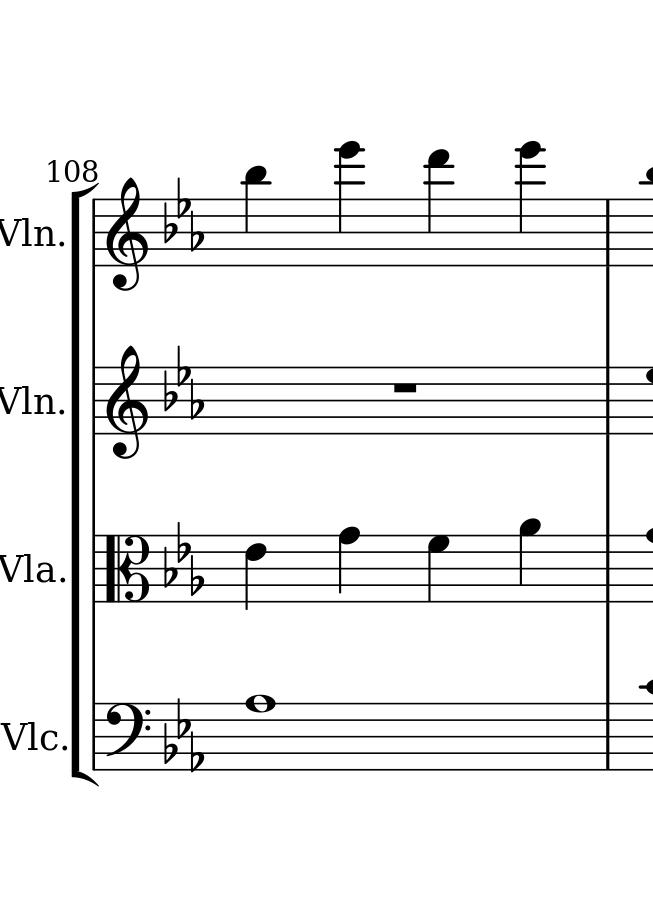0: (62, 154, 80, 184)
1: (48, 155, 60, 187)
1_8: (245, 692, 279, 771)
4_11: (242, 165, 268, 269)
4_13: (425, 148, 451, 268)
4_14: (517, 140, 544, 269), (336, 141, 362, 270)
4_6: (243, 531, 272, 612)
4_7: (424, 533, 451, 608)
4_8: (337, 521, 363, 605)
4_9: (517, 518, 542, 604)
8: (80, 157, 99, 184)
Bracke: (66, 183, 99, 789)
Cclef: (104, 534, 150, 603)
E_F: (162, 174, 205, 254), (162, 343, 204, 423), (162, 695, 206, 771), (163, 520, 205, 597)
Fclef: (101, 700, 153, 774)
Gclef: (104, 177, 149, 295), (106, 343, 147, 463)
Rests1: (391, 379, 421, 395)
Single_barline: (598, 702, 622, 770), (597, 534, 620, 604), (596, 200, 619, 267), (599, 366, 620, 436), (87, 703, 105, 771), (88, 368, 106, 434), (88, 534, 105, 602), (88, 199, 104, 267)
Vla: (1, 550, 58, 593)
Vlc: (1, 717, 61, 758)
Vln: (1, 378, 60, 424), (1, 212, 58, 249)
